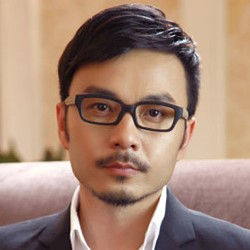unmask: (64, 52, 188, 205)
